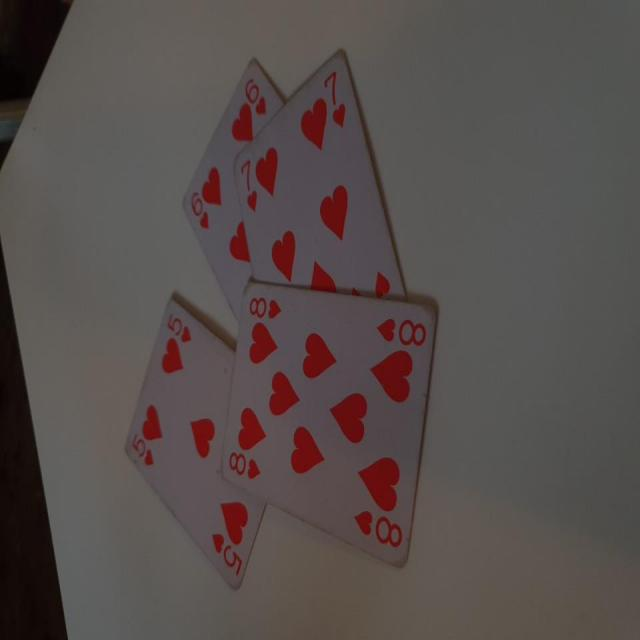5 Hearts: (125, 285, 277, 602)
6 Hearts: (170, 53, 287, 330)
7 Hearts: (228, 45, 413, 302)
8 Hearts: (215, 281, 450, 575)
